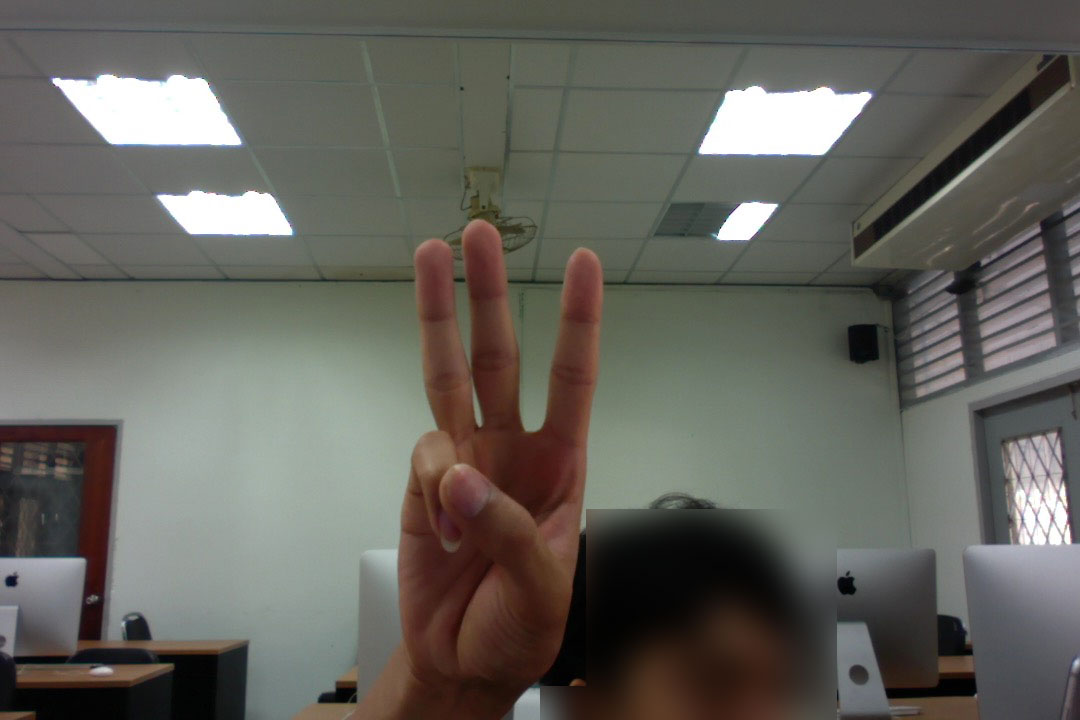wor: (376, 222, 609, 691)
